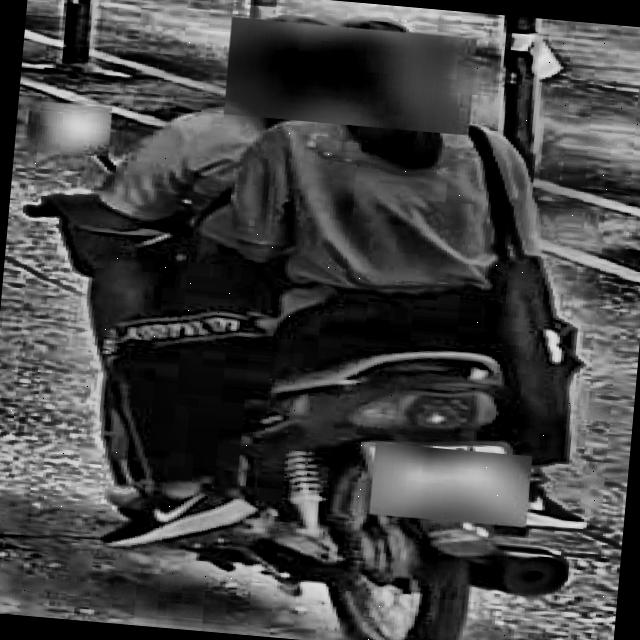motorcycle: (19, 149, 622, 640)
